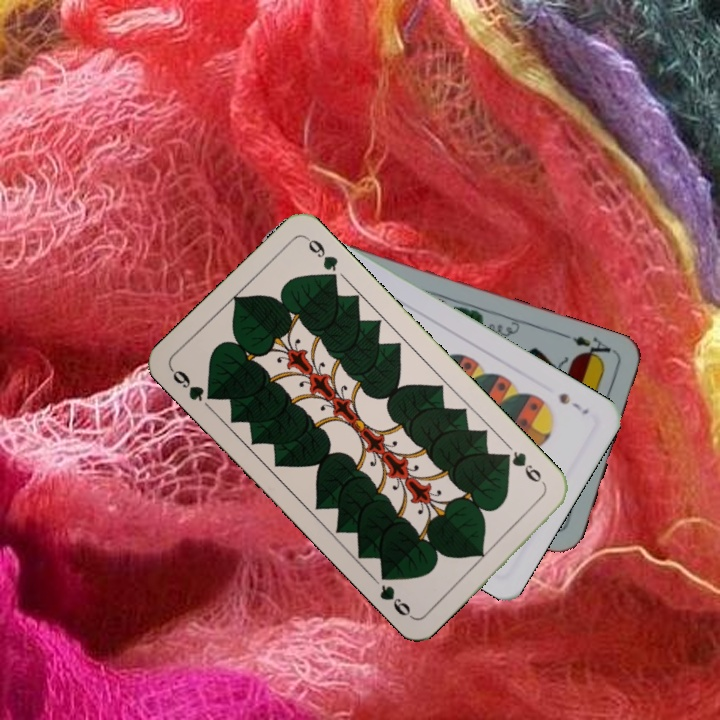EA: (560, 330, 618, 364)
G9: (498, 447, 549, 491), (167, 365, 220, 404)
S7: (554, 388, 592, 417)
